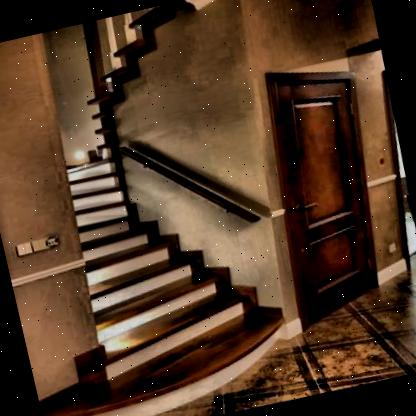door: (235, 56, 410, 333)
stair: (78, 222, 270, 416)
